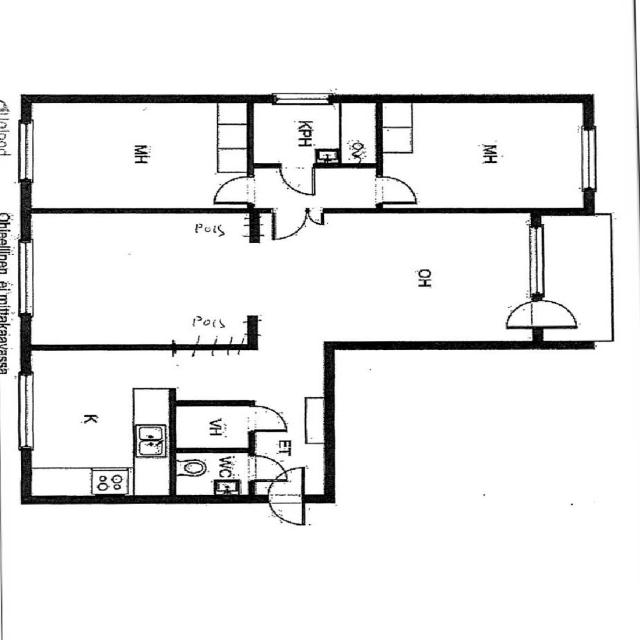door: (495, 300, 583, 328), (208, 171, 258, 205), (240, 403, 289, 433), (374, 172, 421, 203), (276, 162, 316, 196), (278, 206, 325, 234), (270, 208, 308, 242), (305, 207, 327, 226)
window: (8, 236, 41, 323), (10, 370, 38, 451), (574, 122, 603, 196), (10, 118, 41, 187), (524, 224, 550, 300), (268, 90, 332, 107)
zone: (17, 207, 280, 349), (23, 100, 250, 211), (381, 100, 589, 211), (24, 350, 168, 500), (249, 101, 380, 165), (262, 165, 384, 210), (172, 402, 251, 451), (173, 450, 251, 497), (259, 462, 312, 529), (243, 402, 290, 435), (243, 454, 287, 482)
